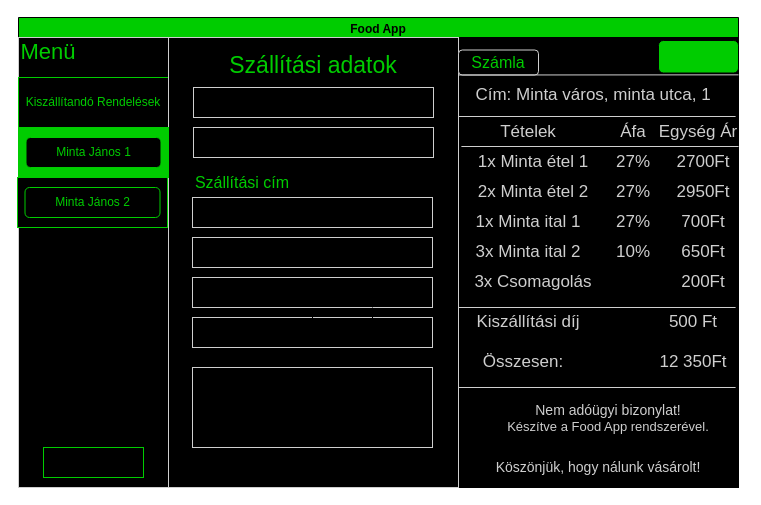
Image size: 761x505. Some labels were removed from this diagram. Each missing label, with the centre of its shape:
"Kijelentkezés" goes at pixel 93 462.
"Kész" goes at pixel 698 56.
